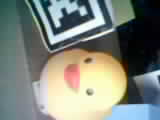duck: (28, 42, 124, 107)
